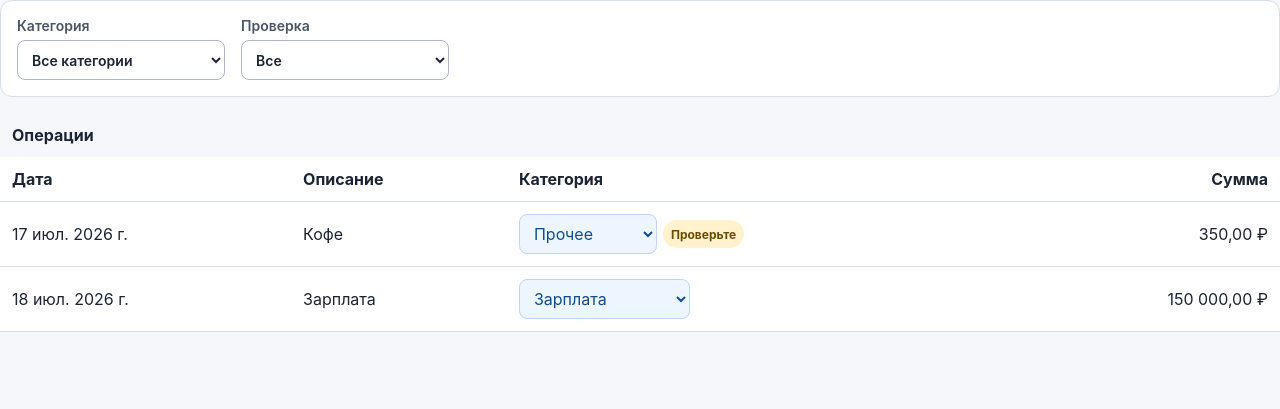
Test: keeps the previous category and shows an error when PATCH fails
Step 1. Select "Продукты" in the dropdown named "Категория: Кофе" → (588, 234), box [519,214,657,254]
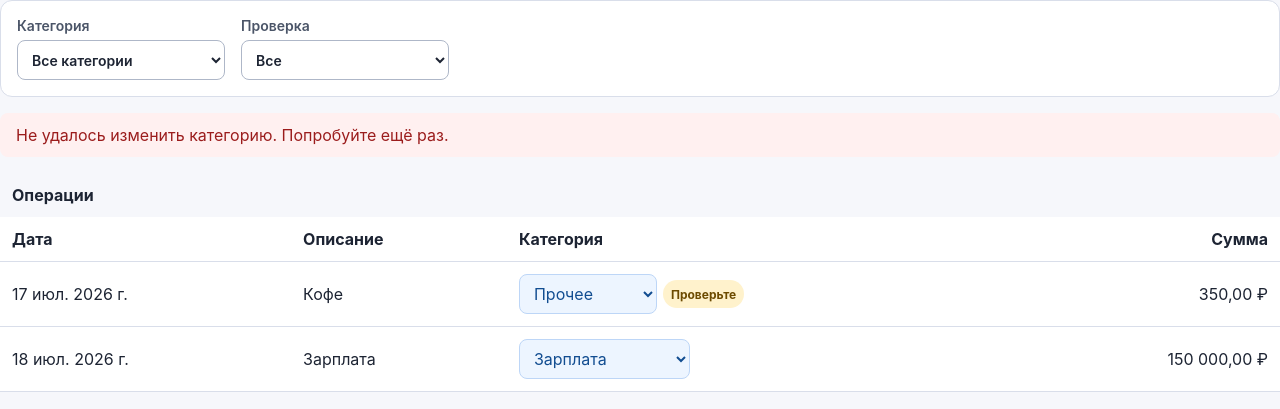
Expected: the dropdown named "Категория: Кофе" is enabled, [519,274,657,314]
Expected: the message shows "Не удалось изменить категорию", [16,125,448,145]
